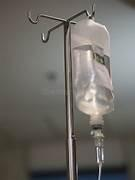Iv_Bottle: (71, 19, 113, 123)
